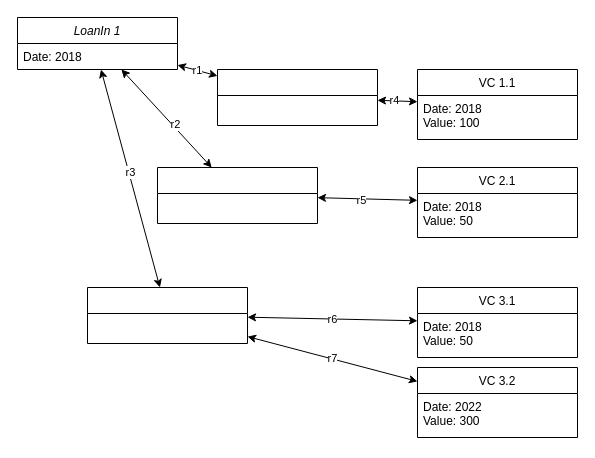
Some shapes in this 595 by 458 pixel diagram are drawn without their labels. The shapes that lost their labels are listed below. From the top down, each one's centre as x and y in pixels, then its label:
At [297,97]: "Obj 1".
At [237,195]: "Obj 2".
At [167,315]: "Obj 3".
